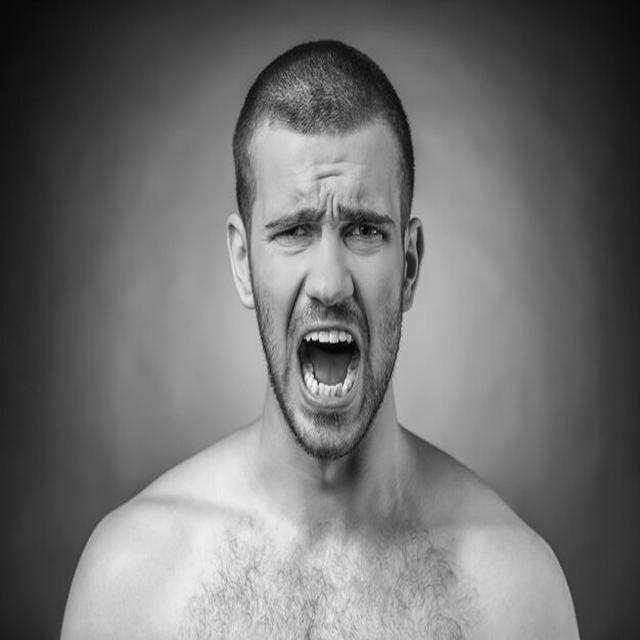Angry: (247, 132, 405, 458)
